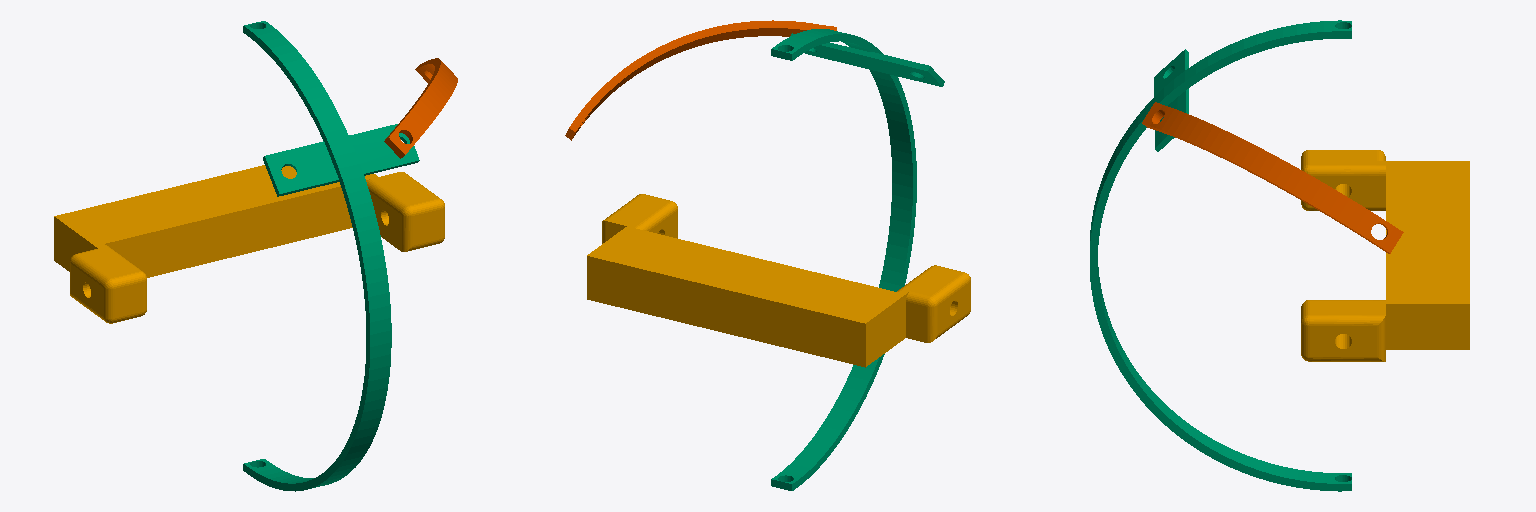
URDF robot description (itp):
<?xml version="1.0" ?>
<robot name="itp">

<mujoco>
 <compiler balanceinertia="true" discardvisual="false" meshdir="meshes" fusestatic="false"/>
</mujoco>

<material name="silver">
  <color rgba="0.700 0.700 0.700 1.000"/>
</material>

<link name="base_link">
  <inertial>
    <origin xyz="5.228414734448659e-13 0.0 0.004500000000000001" rpy="0 0 0"/>
    <mass value="0.0030826878832063724"/>
    <inertia ixx="2.56890625351952e-08" iyy="2.5689067511710567e-08" izz="3.8533597200212615e-08" ixy="2.1788126858268694e-23" iyz="0.0" ixz="-1.0894063390659386e-24"/>
  </inertial>
  <visual>
    <origin xyz="0 0 0" rpy="0 0 0"/>
    <geometry>
      <mesh filename="meshes/base_link.stl" scale="0.001 0.001 0.001"/>
    </geometry>
  </visual>
  <collision>
    <origin xyz="0 0 0" rpy="0 0 0"/>
    <geometry>
      <mesh filename="meshes/base_link.stl" scale="0.001 0.001 0.001"/>
    </geometry>
  </collision>
</link>

<link name="Component11">
  <inertial>
    <origin xyz="0.03626968448259342 -7.279149592549495e-12 0.02387886472145946" rpy="0 0 0"/>
    <mass value="0.015616224255240278"/>
    <inertia ixx="6.4479234718253e-06" iyy="1.045309896509775e-05" izz="4.10086811107808e-06" ixy="1.731267015982729e-15" iyz="3.9922597136689905e-15" ixz="-4.267543480460663e-06"/>
  </inertial>
  <visual>
    <origin xyz="-0.0 -0.0 -0.007" rpy="0 0 0"/>
    <geometry>
      <mesh filename="meshes/Component11.stl" scale="0.001 0.001 0.001"/>
    </geometry>
  </visual>
  <collision>
    <origin xyz="-0.0 -0.0 -0.007" rpy="0 0 0"/>
    <geometry>
      <mesh filename="meshes/Component11.stl" scale="0.001 0.001 0.001"/>
    </geometry>
  </collision>
</link>

<link name="Component31">
  <inertial>
    <origin xyz="-0.018134828718884614 0.03141044496964733 0.023910778086147402" rpy="0 0 0"/>
    <mass value="0.01561619373019636"/>
    <inertia ixx="9.487328074489036e-06" iyy="7.4847431582223705e-06" izz="4.100862356525494e-06" ixy="1.7342893582643058e-06" iyz="-3.7023758079807527e-06" ixz="2.1375675955366385e-06"/>
  </inertial>
  <visual>
    <origin xyz="-0.0 -0.0 -0.01" rpy="0 0 0"/>
    <geometry>
      <mesh filename="meshes/Component31.stl" scale="0.001 0.001 0.001"/>
    </geometry>
  </visual>
  <collision>
    <origin xyz="-0.0 -0.0 -0.01" rpy="0 0 0"/>
    <geometry>
      <mesh filename="meshes/Component31.stl" scale="0.001 0.001 0.001"/>
    </geometry>
  </collision>
</link>

<link name="Component41">
  <inertial>
    <origin xyz="-0.01813484224760137 -0.03141046814553207 0.02394282327545455" rpy="0 0 0"/>
    <mass value="0.01561622425524029"/>
    <inertia ixx="9.519900984914045e-06" iyy="7.517313241276229e-06" izz="4.100868111077599e-06" ixy="-1.7342918627600774e-06" iyz="3.7089749594233944e-06" ixz="2.1413776958436156e-06"/>
  </inertial>
  <visual>
    <origin xyz="0.0 -0.0 -0.013" rpy="0 0 0"/>
    <geometry>
      <mesh filename="meshes/Component41.stl" scale="0.001 0.001 0.001"/>
    </geometry>
  </visual>
  <collision>
    <origin xyz="0.0 -0.0 -0.013" rpy="0 0 0"/>
    <geometry>
      <mesh filename="meshes/Component41.stl" scale="0.001 0.001 0.001"/>
    </geometry>
  </collision>
</link>

<link name="Component51">
  <inertial>
    <origin xyz="-0.025321475871607557 0.03038025653028288 -5.163072705548222e-05" rpy="0 0 0"/>
    <mass value="0.017005729241540698"/>
    <inertia ixx="4.507061461962611e-06" iyy="5.305965547623576e-06" izz="9.740484662123204e-06" ixy="4.254863673231921e-06" iyz="-1.865639558937043e-10" ixz="-1.6655705409844438e-10"/>
  </inertial>
  <visual>
    <origin xyz="-0.053 -0.0 -0.068" rpy="0 0 0"/>
    <geometry>
      <mesh filename="meshes/Component51.stl" scale="0.001 0.001 0.001"/>
    </geometry>
  </visual>
  <collision>
    <origin xyz="-0.053 -0.0 -0.068" rpy="0 0 0"/>
    <geometry>
      <mesh filename="meshes/Component51.stl" scale="0.001 0.001 0.001"/>
    </geometry>
  </collision>
</link>

<link name="Component71">
  <inertial>
    <origin xyz="0.03745686614442004 -0.08248548281300655 -0.0030516316424763074" rpy="0 0 0"/>
    <mass value="0.01700575961617945"/>
    <inertia ixx="1.4214199917527733e-06" iyy="8.391647640045022e-06" izz="9.740525169781596e-06" ixy="-2.4733719370153593e-06" iyz="2.374930533943819e-10" ixz="-7.876748307216624e-11"/>
  </inertial>
  <visual>
    <origin xyz="0.025 -0.043301 -0.071" rpy="0 0 0"/>
    <geometry>
      <mesh filename="meshes/Component71.stl" scale="0.001 0.001 0.001"/>
    </geometry>
  </visual>
  <collision>
    <origin xyz="0.025 -0.043301 -0.071" rpy="0 0 0"/>
    <geometry>
      <mesh filename="meshes/Component71.stl" scale="0.001 0.001 0.001"/>
    </geometry>
  </collision>
</link>

<link name="Component61">
  <inertial>
    <origin xyz="-0.013649309805676638 0.054679236594027986 0.0099483684022273" rpy="0 0 0"/>
    <mass value="0.017005759616179453"/>
    <inertia ixx="8.791093658434433e-06" iyy="1.0219739733628063e-06" izz="9.740525169781718e-06" ixy="-1.7815111382832675e-06" iyz="-5.0531885442103896e-11" ixz="2.4505875897729316e-10"/>
  </inertial>
  <visual>
    <origin xyz="0.0265 0.045899 -0.058" rpy="0 0 0"/>
    <geometry>
      <mesh filename="meshes/Component61.stl" scale="0.001 0.001 0.001"/>
    </geometry>
  </visual>
  <collision>
    <origin xyz="0.0265 0.045899 -0.058" rpy="0 0 0"/>
    <geometry>
      <mesh filename="meshes/Component61.stl" scale="0.001 0.001 0.001"/>
    </geometry>
  </collision>
</link>

<link name="Component81">
  <inertial>
    <origin xyz="0.004315798479525703 -0.049284274821549706 -5.5262819443499533e-05" rpy="0 0 0"/>
    <mass value="0.02609456240330391"/>
    <inertia ixx="2.238119404556831e-05" iyy="2.2376875142076825e-05" izz="4.4647128077108944e-05" ixy="2.183771466392501e-09" iyz="-2.1021373639724614e-09" ixz="1.871247917032994e-10"/>
  </inertial>
  <visual>
    <origin xyz="0.004359 -0.049789 -0.068" rpy="0 0 0"/>
    <geometry>
      <mesh filename="meshes/Component81.stl" scale="0.001 0.001 0.001"/>
    </geometry>
  </visual>
  <collision>
    <origin xyz="0.004359 -0.049789 -0.068" rpy="0 0 0"/>
    <geometry>
      <mesh filename="meshes/Component81.stl" scale="0.001 0.001 0.001"/>
    </geometry>
  </collision>
</link>

<joint name="Revolute_9" type="continuous">
  <origin xyz="0.0 0.0 0.007" rpy="0 0 0"/>
  <parent link="base_link"/>
  <child link="Component11"/>
  <axis xyz="0.0 0.0 1.0"/>
</joint>
<transmission name="Revolute_9_tran">
  <type>transmission_interface/SimpleTransmission</type>
  <joint name="Revolute_9">
    <hardwareInterface>PositionJointInterface</hardwareInterface>
  </joint>
  <actuator name="Revolute_9_actr">
    <hardwareInterface>PositionJointInterface</hardwareInterface>
    <mechanicalReduction>1</mechanicalReduction>
  </actuator>
</transmission>

<joint name="Revolute_10" type="continuous">
  <origin xyz="0.0 0.0 0.003" rpy="0 0 0"/>
  <parent link="Component11"/>
  <child link="Component31"/>
  <axis xyz="0.0 0.0 -1.0"/>
</joint>
<transmission name="Revolute_10_tran">
  <type>transmission_interface/SimpleTransmission</type>
  <joint name="Revolute_10">
    <hardwareInterface>PositionJointInterface</hardwareInterface>
  </joint>
  <actuator name="Revolute_10_actr">
    <hardwareInterface>PositionJointInterface</hardwareInterface>
    <mechanicalReduction>1</mechanicalReduction>
  </actuator>
</transmission>

<joint name="Revolute_11" type="continuous">
  <origin xyz="-0.0 0.0 0.003" rpy="0 0 0"/>
  <parent link="Component31"/>
  <child link="Component41"/>
  <axis xyz="0.0 -0.0 -1.0"/>
</joint>
<transmission name="Revolute_11_tran">
  <type>transmission_interface/SimpleTransmission</type>
  <joint name="Revolute_11">
    <hardwareInterface>PositionJointInterface</hardwareInterface>
  </joint>
  <actuator name="Revolute_11_actr">
    <hardwareInterface>PositionJointInterface</hardwareInterface>
    <mechanicalReduction>1</mechanicalReduction>
  </actuator>
</transmission>

<joint name="Revolute_12" type="continuous">
  <origin xyz="0.053 0.0 0.061" rpy="0 0 0"/>
  <parent link="Component11"/>
  <child link="Component51"/>
  <axis xyz="1.0 0.0 0.0"/>
</joint>
<transmission name="Revolute_12_tran">
  <type>transmission_interface/SimpleTransmission</type>
  <joint name="Revolute_12">
    <hardwareInterface>PositionJointInterface</hardwareInterface>
  </joint>
  <actuator name="Revolute_12_actr">
    <hardwareInterface>PositionJointInterface</hardwareInterface>
    <mechanicalReduction>1</mechanicalReduction>
  </actuator>
</transmission>

<joint name="Revolute_13" type="continuous">
  <origin xyz="-0.025 0.043301 0.058" rpy="0 0 0"/>
  <parent link="Component41"/>
  <child link="Component71"/>
  <axis xyz="-0.5 -0.866025 -0.0"/>
</joint>
<transmission name="Revolute_13_tran">
  <type>transmission_interface/SimpleTransmission</type>
  <joint name="Revolute_13">
    <hardwareInterface>PositionJointInterface</hardwareInterface>
  </joint>
  <actuator name="Revolute_13_actr">
    <hardwareInterface>PositionJointInterface</hardwareInterface>
    <mechanicalReduction>1</mechanicalReduction>
  </actuator>
</transmission>

<joint name="Revolute_14" type="continuous">
  <origin xyz="-0.0265 -0.045899 0.048" rpy="0 0 0"/>
  <parent link="Component31"/>
  <child link="Component61"/>
  <axis xyz="-0.5 0.866025 0.0"/>
</joint>
<transmission name="Revolute_14_tran">
  <type>transmission_interface/SimpleTransmission</type>
  <joint name="Revolute_14">
    <hardwareInterface>PositionJointInterface</hardwareInterface>
  </joint>
  <actuator name="Revolute_14_actr">
    <hardwareInterface>PositionJointInterface</hardwareInterface>
    <mechanicalReduction>1</mechanicalReduction>
  </actuator>
</transmission>

<joint name="Revolute_15" type="continuous">
  <origin xyz="-0.057359 0.049789 0.0" rpy="0 0 0"/>
  <parent link="Component51"/>
  <child link="Component81"/>
  <axis xyz="0.087156 -0.996195 -0.0"/>
</joint>
<transmission name="Revolute_15_tran">
  <type>transmission_interface/SimpleTransmission</type>
  <joint name="Revolute_15">
    <hardwareInterface>PositionJointInterface</hardwareInterface>
  </joint>
  <actuator name="Revolute_15_actr">
    <hardwareInterface>PositionJointInterface</hardwareInterface>
    <mechanicalReduction>1</mechanicalReduction>
  </actuator>
</transmission>

</robot>

--- Facts derived from the render (not from the file) ---
Views: 3 orthographic renders of the robot side by side, from view 1: azimuth 30°, elevation 25°; view 2: azimuth 150°, elevation 25°; view 3: azimuth 270°, elevation 25°.
Robot: itp — 8 links, 7 joints (7 continuous); root link base_link; default pose: every joint at zero.
Links seen in each view (by area): view 1: base_link, Component31, Component71; view 2: base_link, Component31, Component71; view 3: base_link, Component31, Component71.
Boxes of the visible links, x1,y1,x2,y2 form: base_link: (54,165,444,323); Component31: (243,21,419,491); Component71: (384,58,457,158); base_link: (587,194,970,367); Component31: (771,29,944,490); Component71: (565,20,836,140); base_link: (1301,150,1469,361); Component31: (1090,20,1351,491); Component71: (1142,102,1403,253).
Size in the robot's own frame: 0.2629 by 0.2249 by 0.3 metres.
3 mesh visuals loaded from 8 distinct referenced files (3 binary STL); not drawn: 5 (reference not matched to a file when rendering).